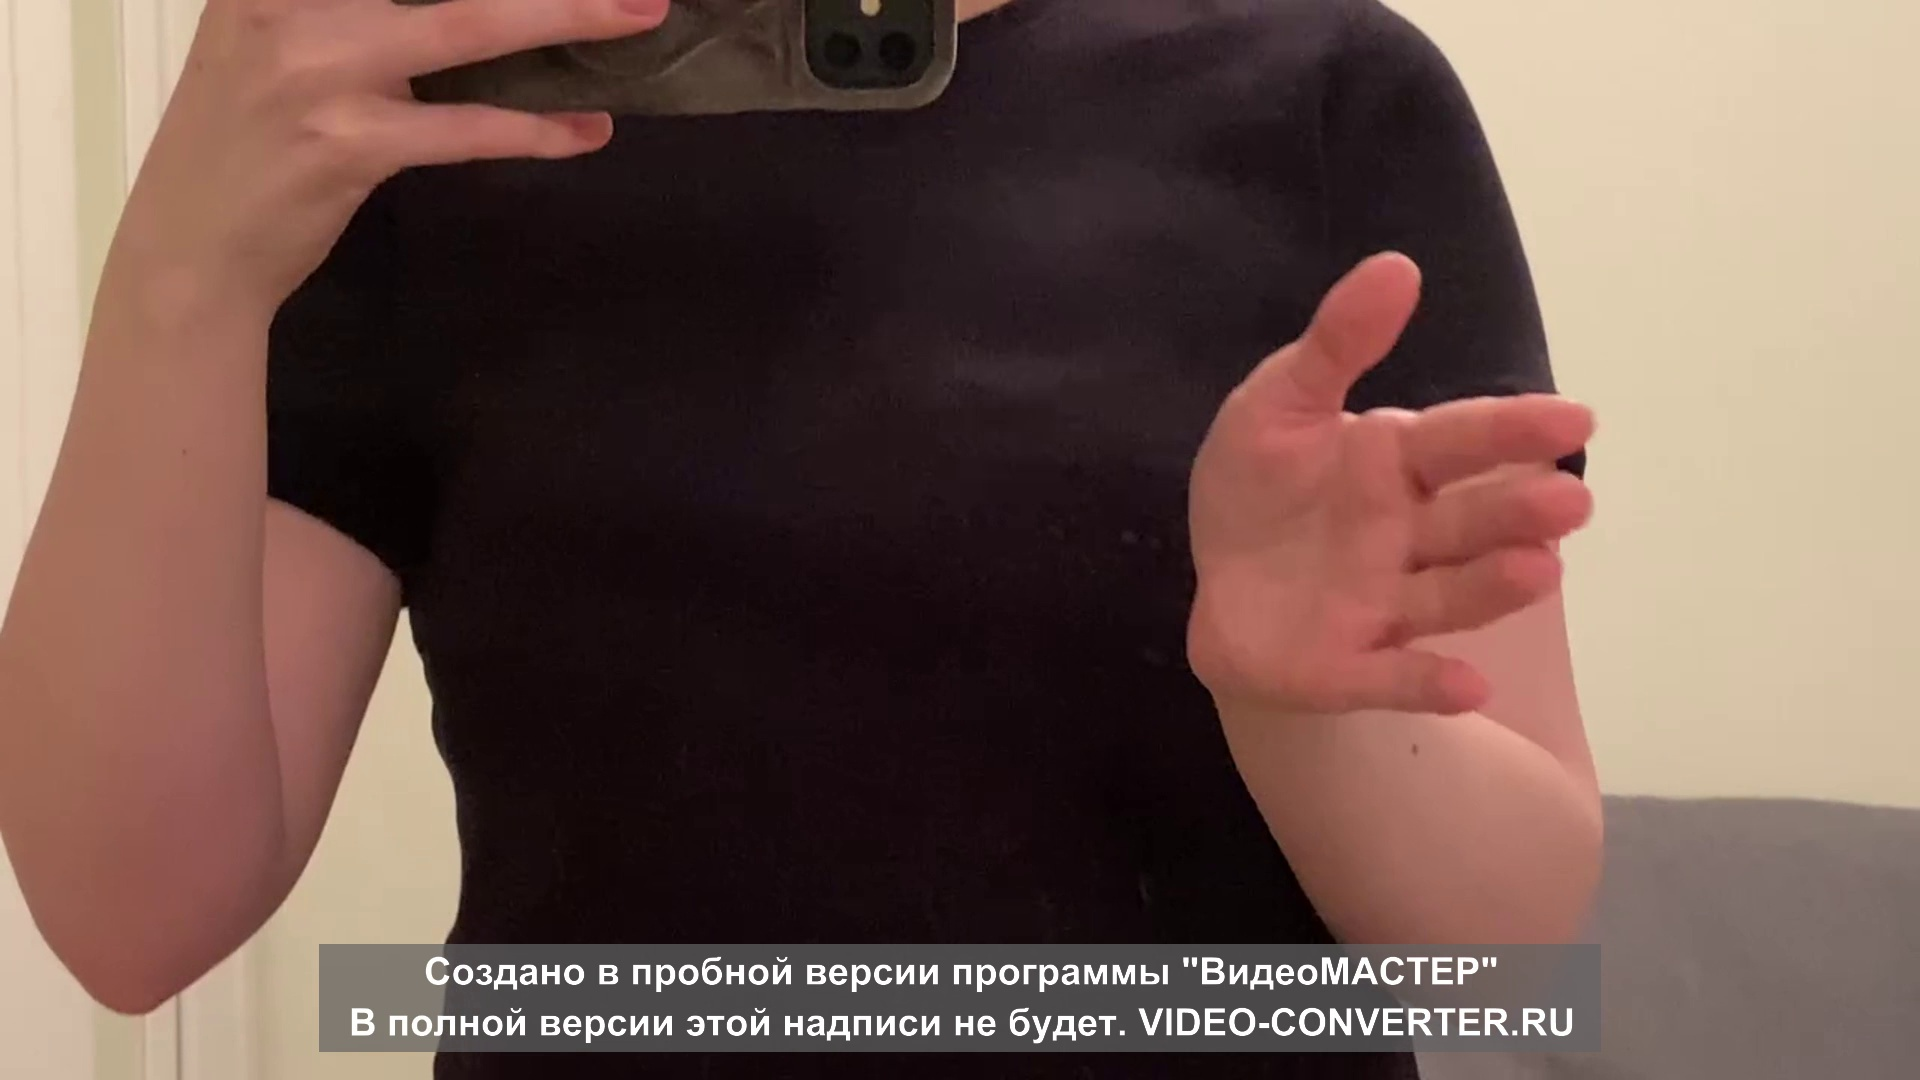Ладонь: (1184, 248, 1598, 717)
